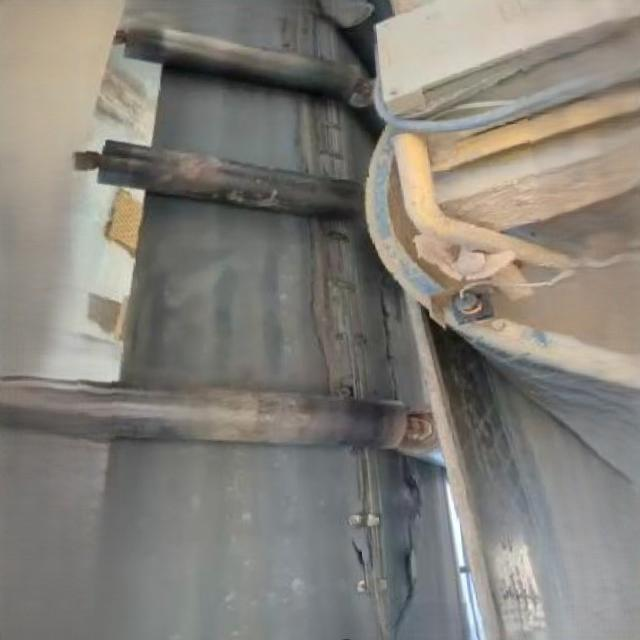Tear: (298, 213, 404, 404), (334, 456, 430, 640), (289, 92, 358, 178)
